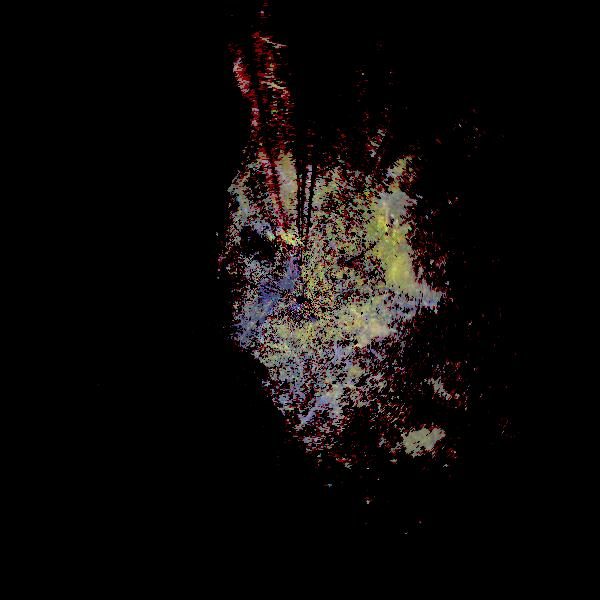roost: (378, 405, 501, 528)
